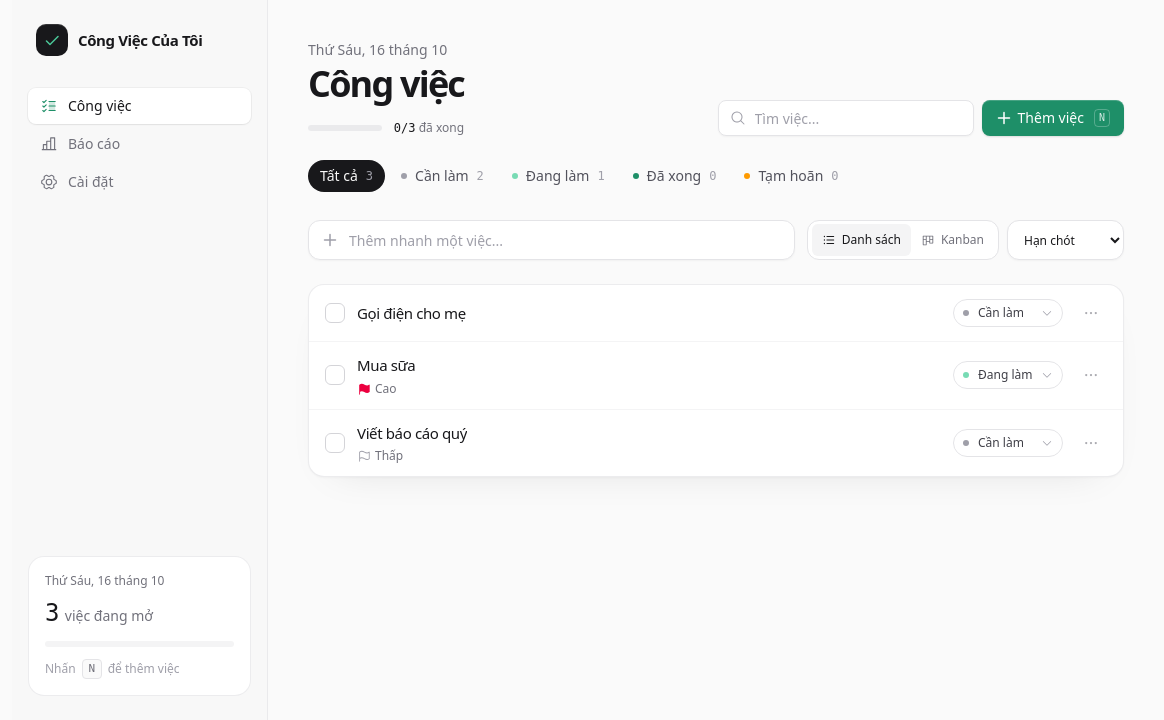
Test case: trang Công việc › lọc theo trạng thái, có đếm số và ghi lên URL
Expected: the button "Tất cả 3" is shown, [308,160,385,192]
Step 1. Click the button "Đang làm 1" → {"x": 558, "y": 176}, box [500,160,617,192]
(page scrolled)
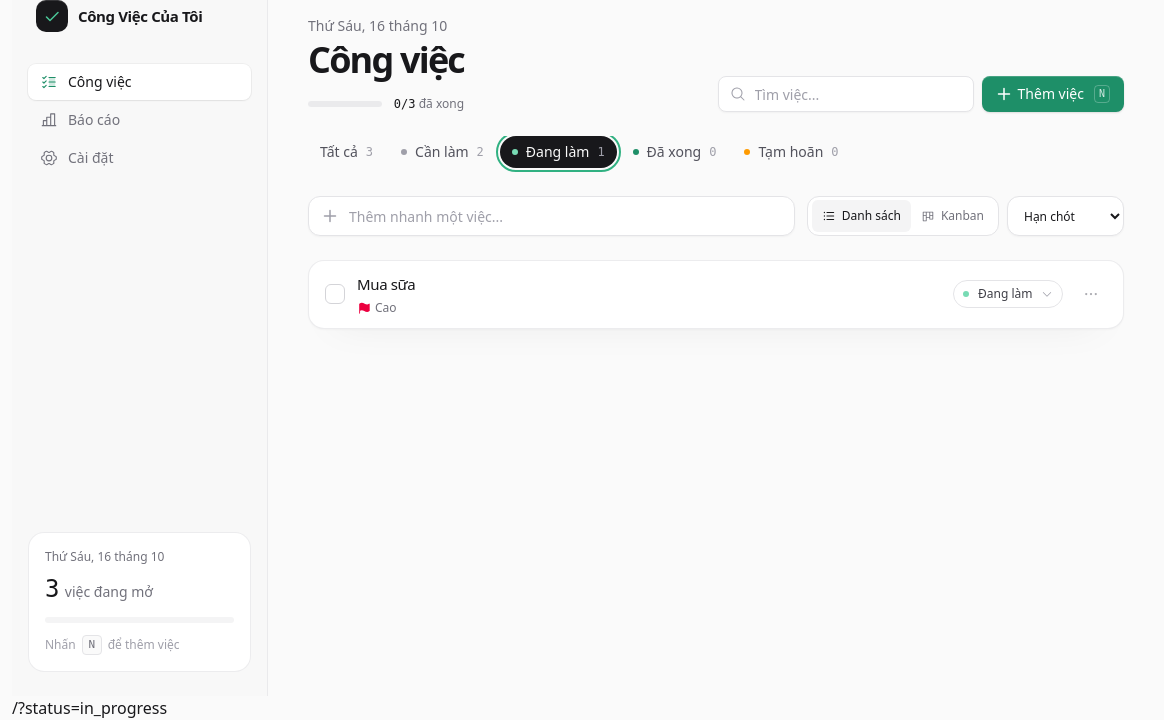
Result: the text with test id "location" reads "/?status=in_progress" at [12,697,167,719]
